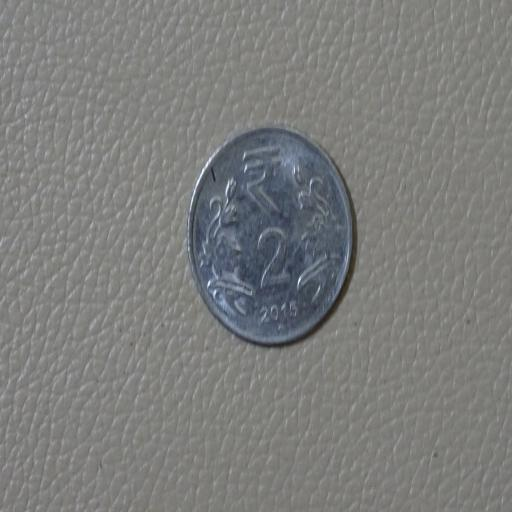rupee2: (186, 118, 356, 349)
